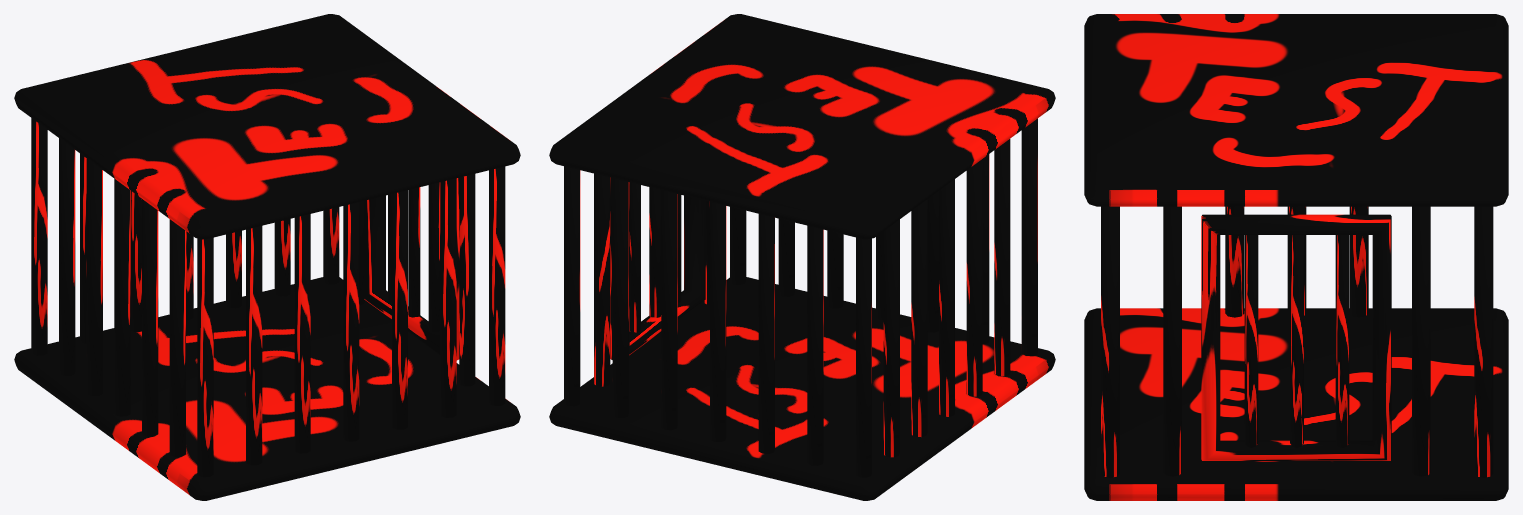
The model's file is PGJ_Jaulav04.glb.
3 renders of one model, left to right at view 1: azimuth 30°, elevation 25°; view 2: azimuth 150°, elevation 25°; view 3: azimuth 270°, elevation 25°, orthographic. The views are drawn at different scales.
Parts seen in each view (by area): view 1: jaula, Plane.002; view 2: jaula, Plane.002; view 3: jaula, Plane.002.
Boxes of the visible parts, x1=… form: jaula: x1=14, y1=14, x2=520, y2=500; Plane.002: x1=364, y1=177, x2=459, y2=360; jaula: x1=549, y1=14, x2=1055, y2=500; Plane.002: x1=610, y1=177, x2=705, y2=359; jaula: x1=1084, y1=14, x2=1508, y2=500; Plane.002: x1=1201, y1=214, x2=1391, y2=460.
Bounding box in the file's own units: 2 × 1.65 × 2.
1 material, 1 textured.
